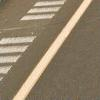Crosswalk: (3, 2, 53, 93)
